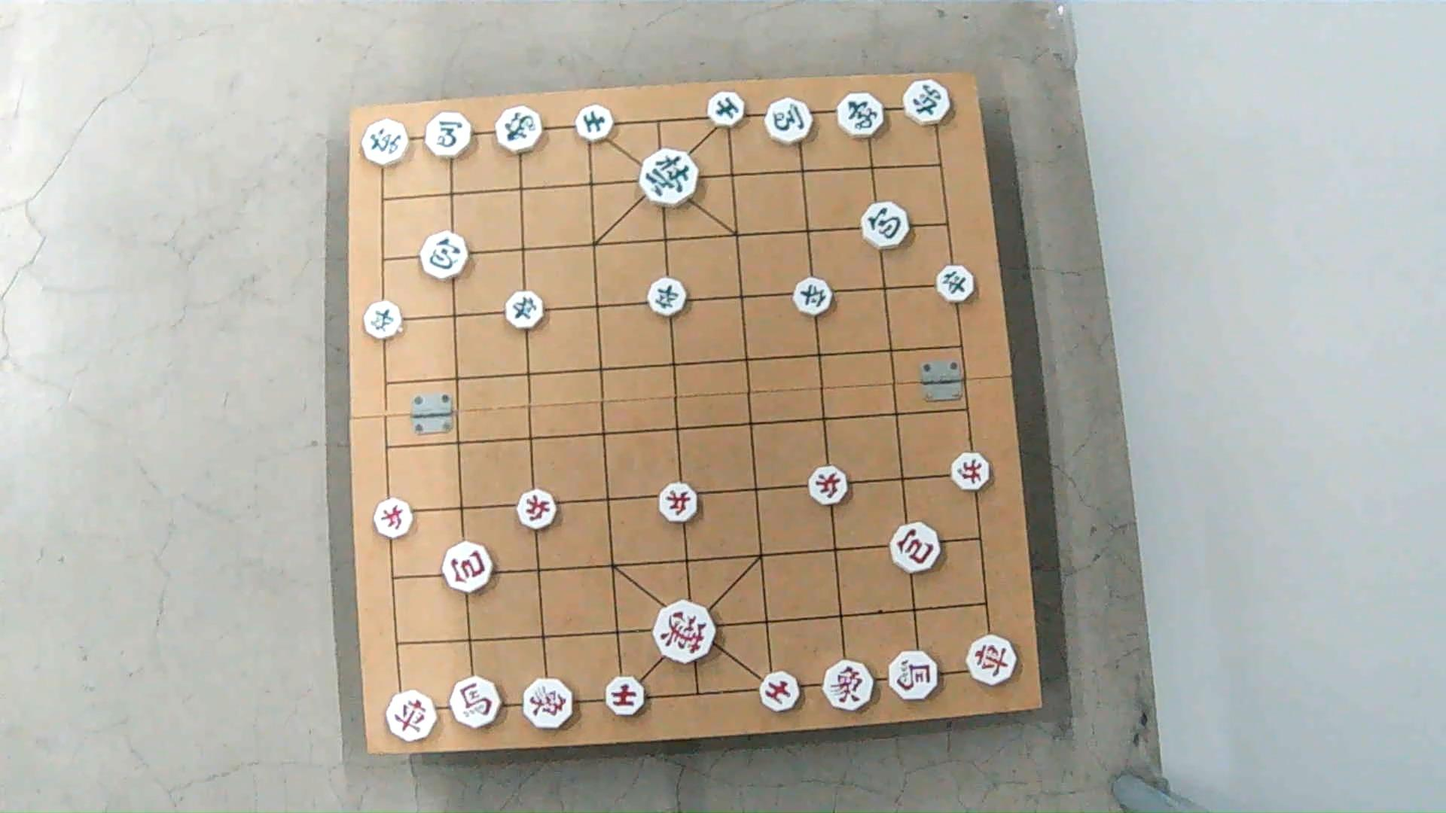cha_green: (359, 118, 409, 166), (901, 78, 951, 123)
cha_red: (387, 693, 439, 741), (966, 635, 1017, 682)
jol_green: (502, 293, 542, 330), (363, 303, 405, 338), (794, 280, 834, 316), (645, 281, 685, 317), (936, 265, 976, 301)
jol_red: (808, 467, 849, 506), (656, 484, 697, 522), (519, 490, 560, 528), (950, 452, 992, 489), (375, 499, 415, 537)
ma_green: (764, 99, 813, 144), (423, 114, 472, 158)
ma_red: (884, 648, 937, 700), (450, 678, 502, 728)
po_green: (862, 202, 912, 248), (422, 233, 471, 279)
po_red: (892, 523, 943, 571), (444, 545, 496, 592)
sa_green: (578, 107, 617, 142), (706, 93, 746, 126)
sa_red: (760, 674, 801, 713), (607, 677, 648, 714)
sang_green: (835, 90, 886, 138), (493, 106, 543, 150)
sang_red: (523, 678, 578, 729), (823, 662, 876, 708)
wang_green: (637, 151, 697, 206)
wang_red: (654, 603, 719, 661)
